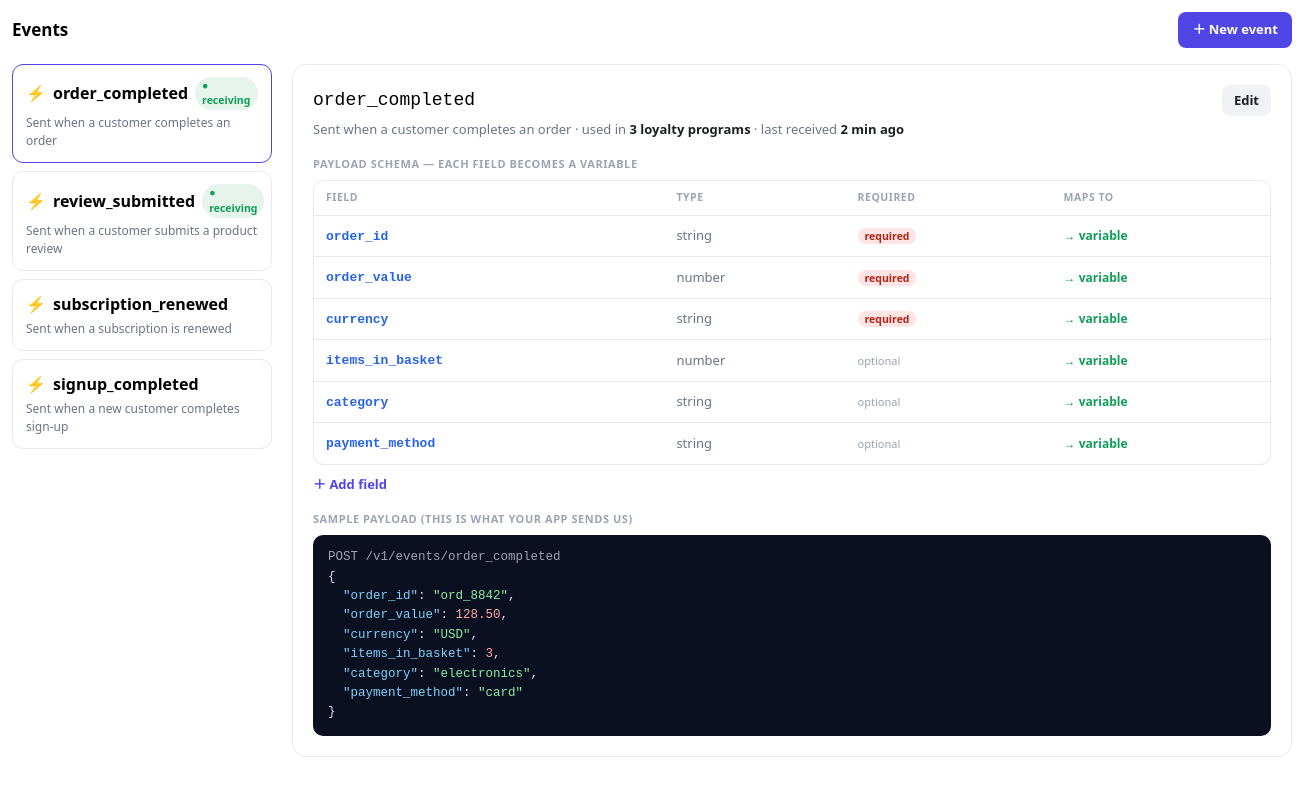
it: clicking Edit shows editable name and description inputs
Expected: the heading "order_completed" is shown, [313,87,475,114]
Click Edit
Click the button "Edit" at (1246, 100), box [1222,84,1271,116]
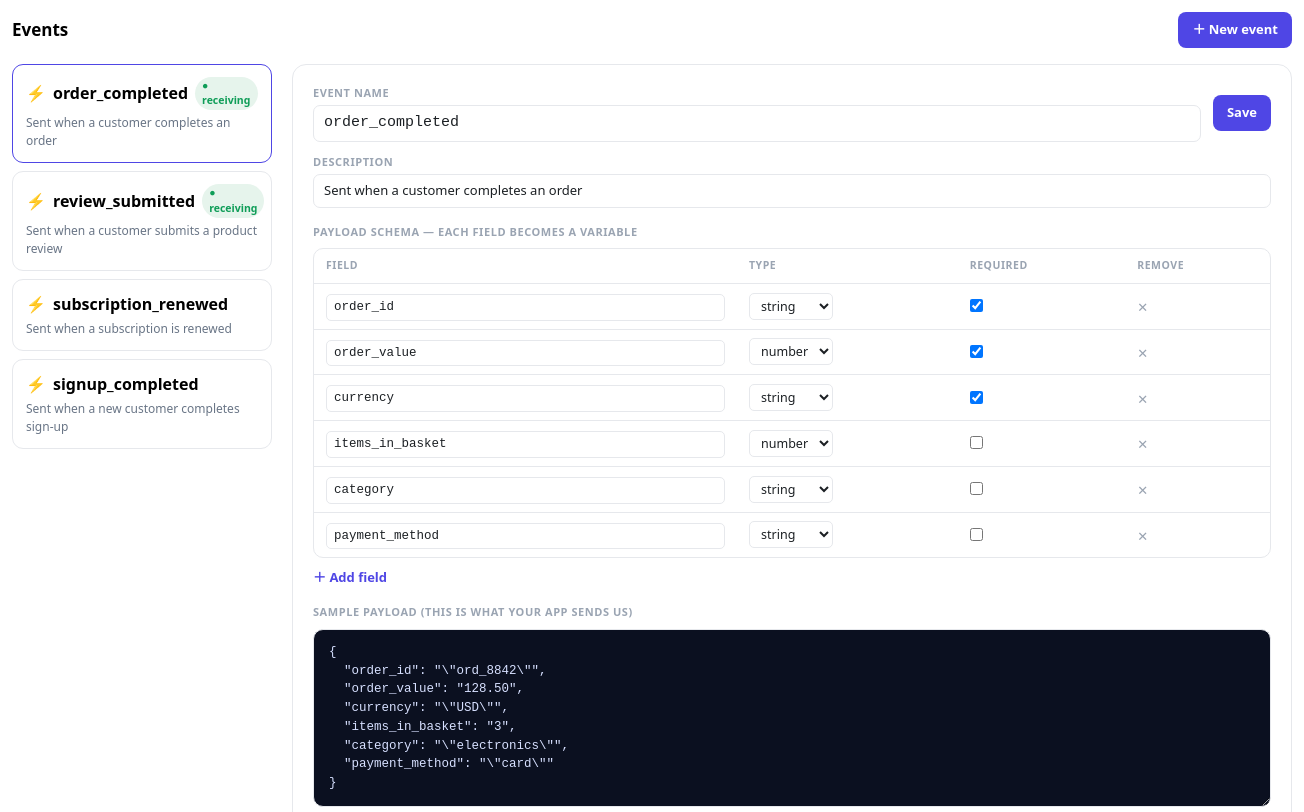
Result: the field labelled "Event name" is shown at [313,105,1201,142]
Result: the field labelled "Description" is shown at [313,174,1271,208]
Result: the button "Save" is shown at [1213,95,1271,131]
